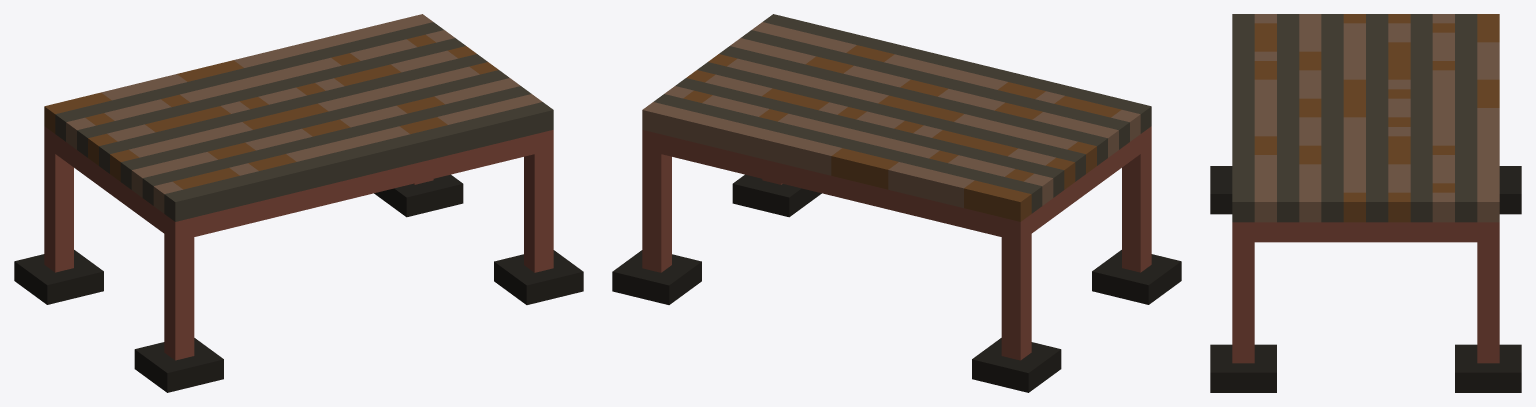
File: Medieval Assets-17-Decoration - Table - Plank Variant3.obj
3 renders of one model, left to right at view 1: azimuth 30°, elevation 25°; view 2: azimuth 150°, elevation 25°; view 3: azimuth 270°, elevation 25°, orthographic.
Parts seen in each view (by area): view 1: Decoration - Table - Plank Variant3; view 2: Decoration - Table - Plank Variant3; view 3: Decoration - Table - Plank Variant3.
Part boxes in pixels (<box>): Decoration - Table - Plank Variant3: <box>14,14,583,392</box>; Decoration - Table - Plank Variant3: <box>612,14,1181,392</box>; Decoration - Table - Plank Variant3: <box>1210,14,1521,392</box>.
Bounding box in the file's own units: 2.2 × 0.9 × 1.4.
1 material, 1 textured.
